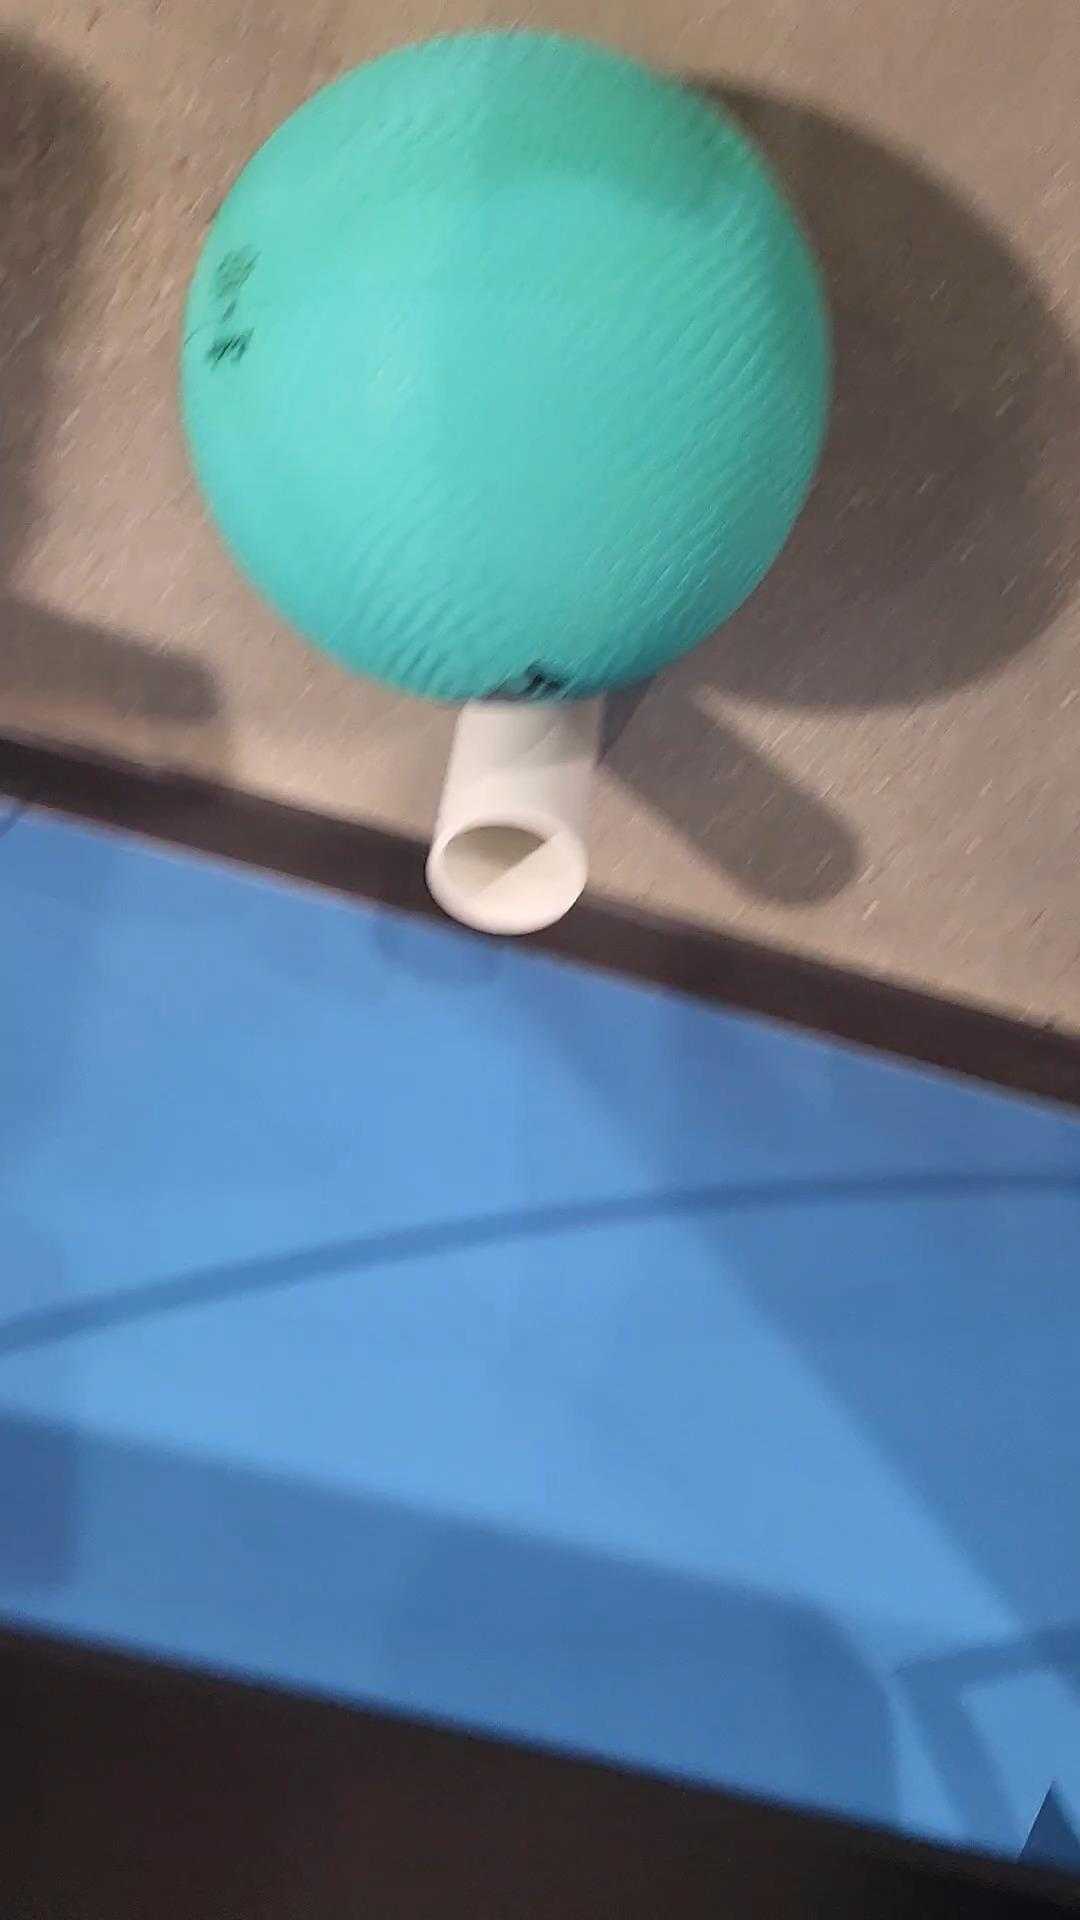algae: (185, 28, 829, 703)
coral: (427, 670, 600, 938)
